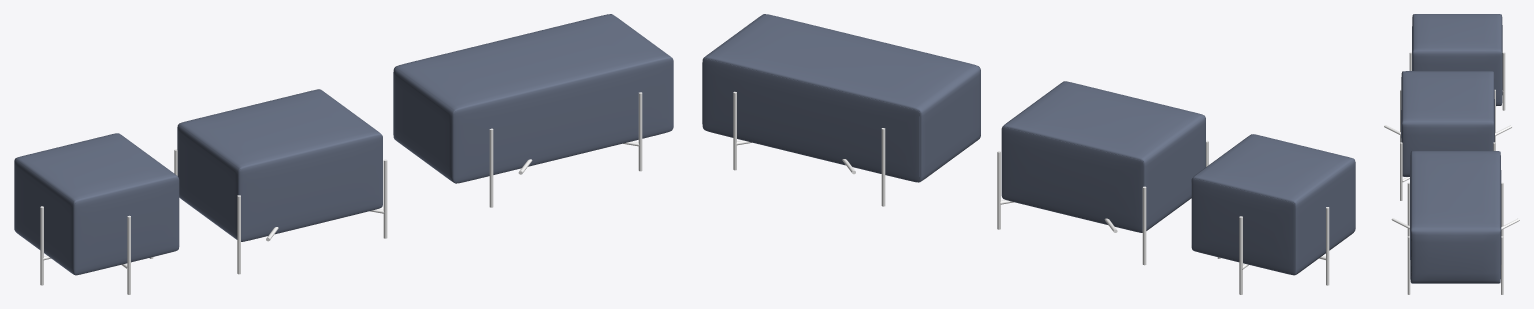
Rendered from pufe-happy.glb.
3 views of the same model, side by side, from view 1: azimuth 30°, elevation 25°; view 2: azimuth 150°, elevation 25°; view 3: azimuth 270°, elevation 25° (orthographic). The views are drawn at different scales.
Visible parts, largest first — view 1: Componente#1 (×2), Componente#4, puff happy 60, puff happy 90, puff happy 45; view 2: Componente#1 (×2), Componente#4, puff happy 60, puff happy 90, puff happy 45; view 3: Componente#1 (×2), Componente#4, puff happy 90, puff happy 60, puff happy 45.
Boxes of the visible parts, x1,y1,x2,y2 form: Componente#1 (×2): (14, 89, 382, 275); Componente#4: (393, 14, 673, 183); puff happy 60: (174, 149, 387, 274); puff happy 90: (489, 92, 642, 207); puff happy 45: (40, 206, 153, 294); Componente#1 (×2): (1001, 81, 1355, 275); Componente#4: (702, 14, 980, 182); puff happy 60: (997, 140, 1208, 265); puff happy 90: (733, 91, 885, 206); puff happy 45: (1217, 207, 1329, 294); Componente#1 (×2): (1401, 14, 1502, 176); Componente#4: (1410, 151, 1501, 283); puff happy 90: (1391, 182, 1519, 294); puff happy 60: (1384, 89, 1511, 200); puff happy 45: (1409, 52, 1505, 110).
Bounding box in the file's own units: 2.43 × 0.41 × 0.6379.
